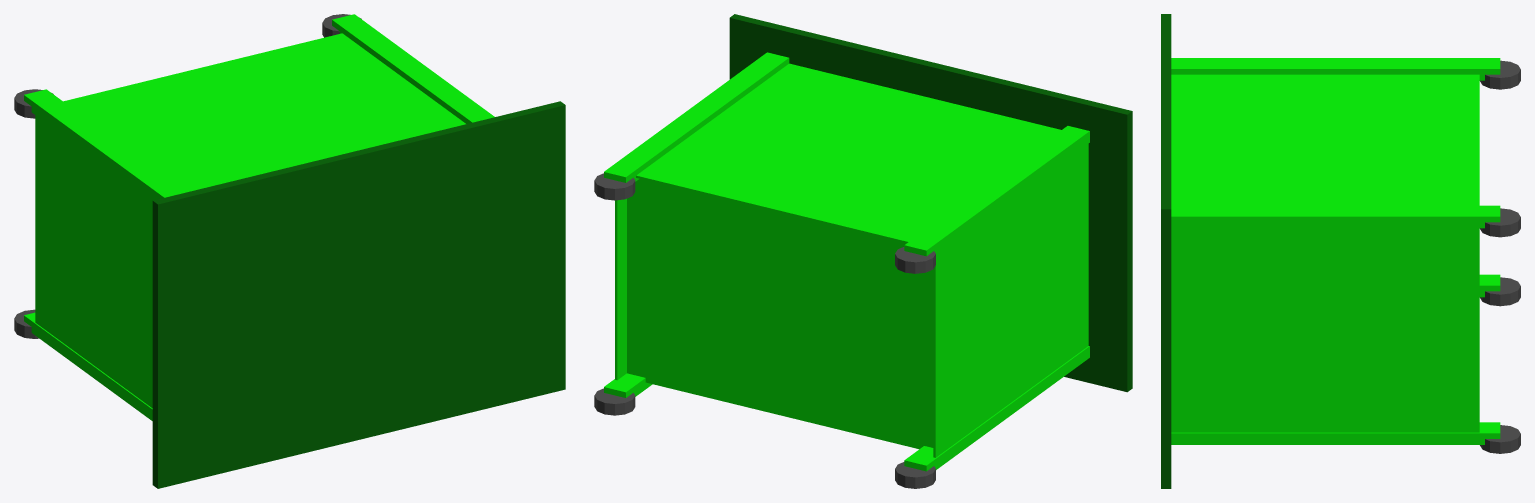
File: nil_link_mesh.dae
3 views of the same model, side by side, from view 1: azimuth 30°, elevation 25°; view 2: azimuth 150°, elevation 25°; view 3: azimuth 270°, elevation 25° (orthographic). The views are drawn at different scales.
Parts seen in each view (by area): view 1: nil_link (×6); view 2: nil_link (×13); view 3: nil_link (×11).
Part boxes in pixels (x1,y1,x2,y2): nil_link (×6): [24, 14, 565, 488]; nil_link (×13): [594, 14, 1132, 488]; nil_link (×11): [1161, 14, 1520, 488].
Bounding box in the file's own units: 0.9 × 0.6 × 0.7.
